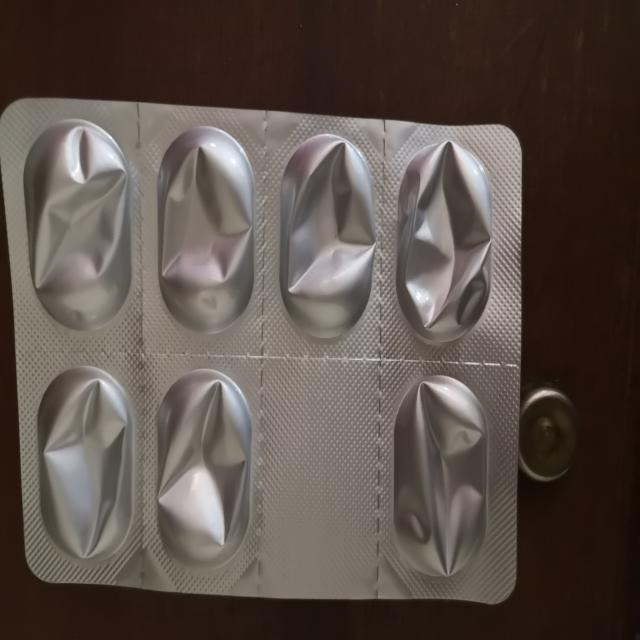Empty: (19, 118, 136, 336), (272, 127, 380, 346), (392, 133, 500, 352), (151, 120, 260, 336), (149, 366, 258, 572), (30, 360, 138, 565), (390, 371, 494, 580)
